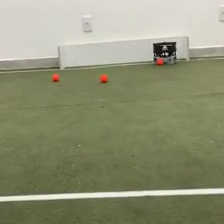ball: (51, 72, 60, 81), (100, 73, 108, 82), (156, 57, 164, 65)
goal: (56, 34, 191, 70)
robot: (152, 40, 178, 66)
